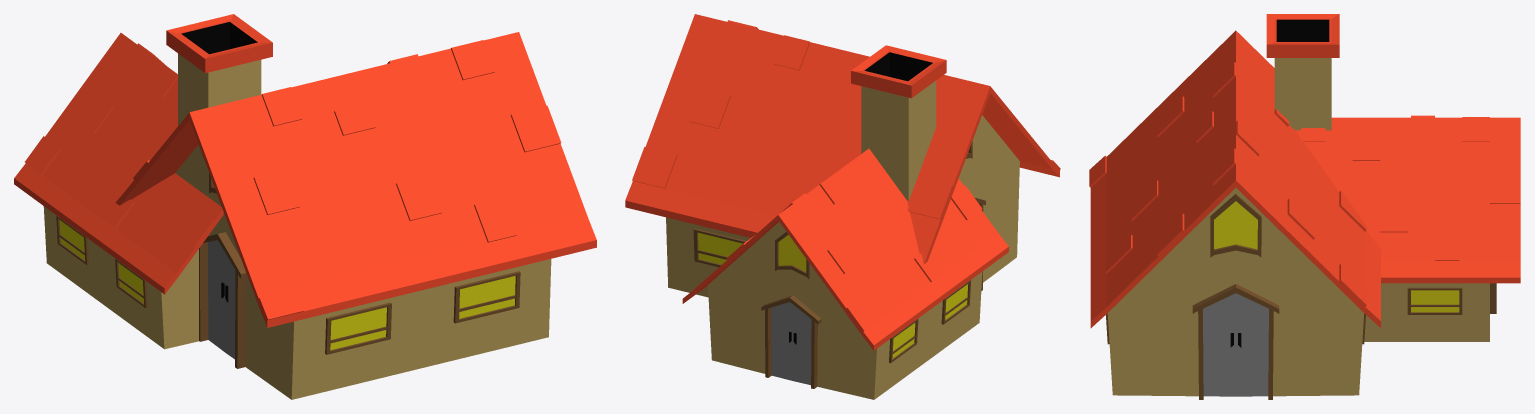
File: House Model 02F.fbx
3 renders of one model, left to right at view 1: azimuth 30°, elevation 25°; view 2: azimuth 150°, elevation 25°; view 3: azimuth 270°, elevation 25°, orthographic. The views are drawn at different scales.
Parts seen in each view (by area): view 1: Plane, Plane.001, Cube; view 2: Plane, Plane.001, Cube; view 3: Plane, Plane.001, Cube.
Part boxes in pixels (left/top/right/bottom): Plane: left=115, top=32, right=596, bottom=399; Plane.001: left=14, top=33, right=223, bottom=349; Cube: left=166, top=14, right=272, bottom=125; Plane: left=625, top=14, right=1060, bottom=297; Plane.001: left=682, top=148, right=1008, bottom=399; Cube: left=851, top=45, right=946, bottom=200; Plane: left=1089, top=30, right=1380, bottom=399; Plane.001: left=1295, top=115, right=1520, bottom=341; Cube: left=1266, top=14, right=1339, bottom=130.
Size of the model in its own units: 383 by 294 by 435.
